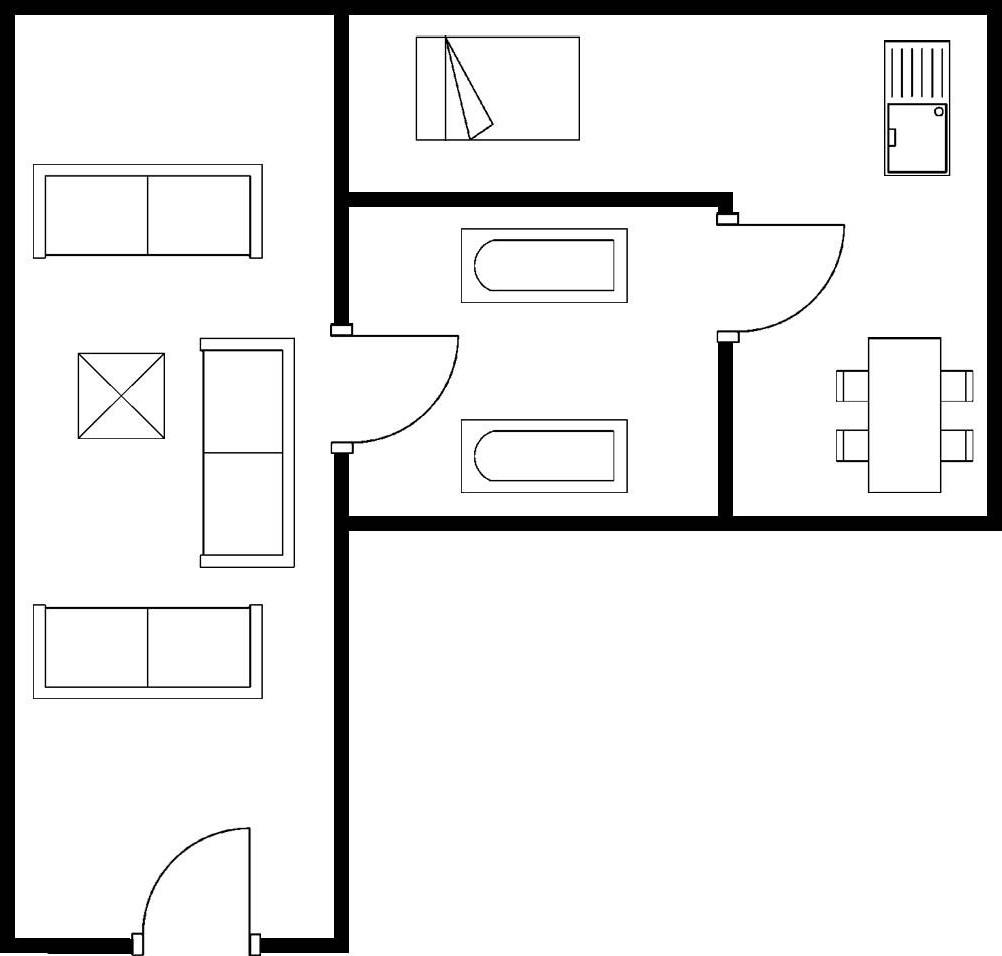bed: (408, 30, 584, 145)
dining_table: (832, 332, 975, 496)
sink: (876, 31, 953, 182)
sofa: (189, 330, 300, 574), (25, 158, 265, 265), (26, 599, 267, 704)
tub: (454, 414, 632, 498), (456, 223, 633, 307)
